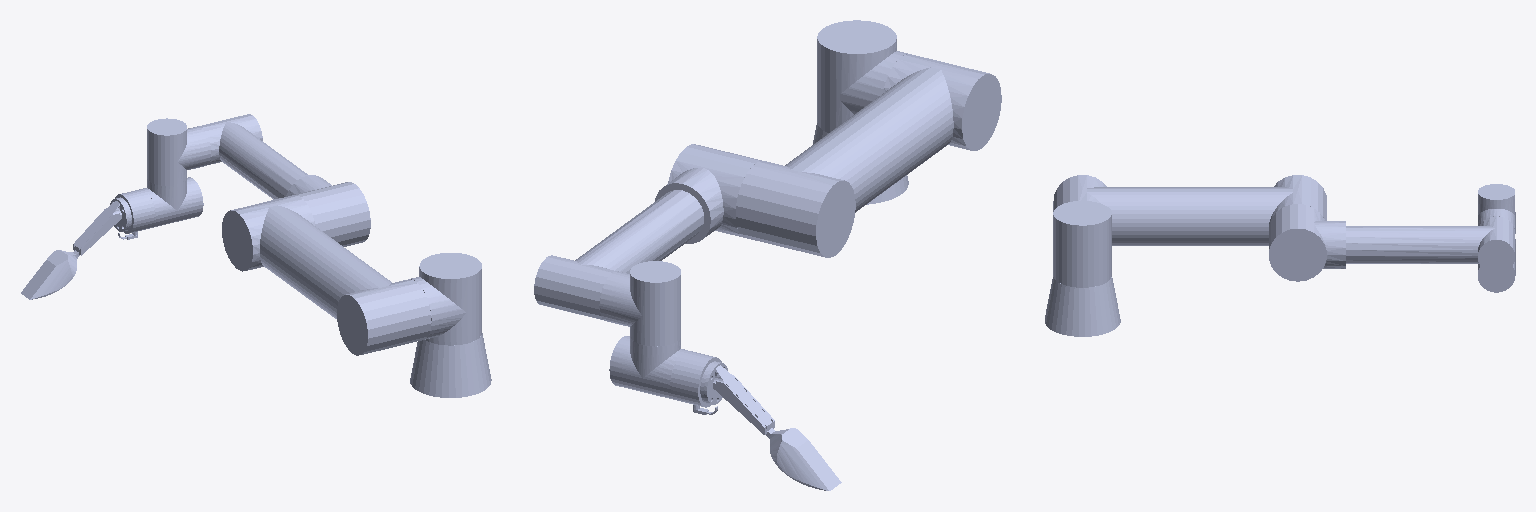
robot.urdf — UR5:
<?xml version="1.0" encoding="utf-8"?>
<robot
  name="UR5">
  <link name="world"/>
  <joint name="fixed" type="fixed">
    <parent link="world"/>
    <child link="base_link"/>
  </joint>
  <link
    name="base_link">
    <inertial>
      <origin
        xyz="0 0 0.0452500167858338"
        rpy="0 0 0" />
      <mass
        value="1.39397162412901" />
      <inertia
        ixx="0.00271550342627118"
        ixy="-1.62630325872826E-19"
        ixz="-4.87890977618477E-19"
        iyy="0.00271550342627118"
        iyz="2.71050543121376E-19"
        izz="0.00319199166031868" />
    </inertial>
    <visual>
      <origin
        xyz="0 0 0"
        rpy="0 0 0" />
      <geometry>
        <mesh
          filename="meshes/base_link.obj" />
      </geometry>
      <material
        name="">
        <color
          rgba="0.792156862745098 0.819607843137255 0.933333333333333 1" />
      </material>
    </visual>
    <collision>
      <origin
        xyz="0 0 0"
        rpy="0 0 0" />
      <geometry>
        <mesh
          filename="meshes/base_link.obj" />
      </geometry>
    </collision>
  </link>
  <link
    name="shoulder_link">
    <inertial>
      <origin
        xyz="1.14297319386836E-07 0.00937261893288466 0.067026772906609"
        rpy="0 0 0" />
      <mass
        value="1.69867696887764" />
      <inertia
        ixx="0.00442864599419339"
        ixy="-4.1010435672395E-09"
        ixz="2.8740170573277E-10"
        iyy="0.00390531713147106"
        iyz="5.6961157001318E-05"
        izz="0.0035600426008386" />
    </inertial>
    <visual>
      <origin
        xyz="0 0 0"
        rpy="0 0 0" />
      <geometry>
        <mesh
          filename="meshes/shoulder_link.obj" />
      </geometry>
      <material
        name="">
        <color
          rgba="0.792156862745098 0.819607843137255 0.933333333333333 1" />
      </material>
    </visual>
    <collision>
      <origin
        xyz="0 0 0"
        rpy="0 0 0" />
      <geometry>
        <mesh
          filename="meshes/shoulder_link.obj" />
      </geometry>
    </collision>
  </link>
  <joint
    name="base_shoulder"
    type="revolute">
    <origin
      xyz="0 0 0.0990600000000002"
      rpy="0 0 1.5707963267949" />
    <parent
      link="base_link" />
    <child
      link="shoulder_link" />
    <axis
      xyz="0 0 1" />
    <limit
      lower="-6.28"
      upper="6.28"
      effort="150"
      velocity="2.0" />
  </joint>
  <link
    name="upperarm_link">
    <inertial>
      <origin
        xyz="1.35809636425677E-07 0.212500030104974 0.0653493983179751"
        rpy="0 0 0" />
      <mass
        value="6.31285273346306" />
      <inertia
        ixx="0.16990036349023"
        ixy="8.61179154376668E-09"
        ixz="3.01509572205039E-07"
        iyy="0.0127291856529223"
        iyz="-4.74484079847695E-10"
        izz="0.168139675767776" />
    </inertial>
    <visual>
      <origin
        xyz="0 0 0"
        rpy="0 0 0" />
      <geometry>
        <mesh
          filename="meshes/upperarm_link.obj" />
      </geometry>
      <material
        name="">
        <color
          rgba="0.792156862745098 0.819607843137255 0.933333333333333 1" />
      </material>
    </visual>
    <collision>
      <origin
        xyz="0 0 0"
        rpy="0 0 0" />
      <geometry>
        <mesh
          filename="meshes/upperarm_link.obj" />
      </geometry>
    </collision>
  </link>
  <joint
    name="shoulder_upperarm"
    type="revolute">
    <origin
      xyz="0 0.0744 0.0634490000000003"
      rpy="-1.5707963267949 -1.5707963267949 0" />
    <parent
      link="shoulder_link" />
    <child
      link="upperarm_link" />
    <axis
      xyz="0 0 1" />
    <limit
      lower="-6.28"
      upper="6.28"
      effort="150"
      velocity="2.0" />
  </joint>
  <link
    name="forearm_link">
    <inertial>
      <origin
        xyz="-7.44991928147698E-08 0.150537145068109 0.0641679811020661"
        rpy="0 0 0" />
      <mass
        value="3.18874318974123" />
      <inertia
        ixx="0.0756021338545846"
        ixy="-1.64883032509507E-08"
        ixz="6.14346224933615E-10"
        iyy="0.00433469541115748"
        iyz="-0.00195295037223336"
        izz="0.0749130409918154" />
    </inertial>
    <visual>
      <origin
        xyz="0 0 0"
        rpy="0 0 0" />
      <geometry>
        <mesh
          filename="meshes/forearm_link.obj" />
      </geometry>
      <material
        name="">
        <color
          rgba="0.792156862745098 0.819607843137255 0.933333333333333 1" />
      </material>
    </visual>
    <collision>
      <origin
        xyz="0 0 0"
        rpy="0 0 0" />
      <geometry>
        <mesh
          filename="meshes/forearm_link.obj" />
      </geometry>
    </collision>
  </link>
  <joint
    name="upperarm_forearm"
    type="revolute">
    <origin
      xyz="0 0.425 0"
      rpy="3.14159265358979 0 3.14159265358979" />
    <parent
      link="upperarm_link" />
    <child
      link="forearm_link" />
    <axis
      xyz="0 0 -1" />
    <limit
      lower="-6.28"
      upper="6.28"
      effort="28"
      velocity="2.0" />
  </joint>
  <link
    name="wrist1_link">
    <inertial>
      <origin
        xyz="-6.79008420600979E-08 -0.00349488600556425 0.0580237753952952"
        rpy="0 0 0" />
      <mass
        value="0.633562099865019" />
      <inertia
        ixx="0.000995073092670701"
        ixy="1.98275427353749E-10"
        ixz="-3.8640843073813E-10"
        iyy="0.000769001925832068"
        iyz="3.2828800546047E-05"
        izz="0.000691326411605403" />
    </inertial>
    <visual>
      <origin
        xyz="0 0 0"
        rpy="0 0 0" />
      <geometry>
        <mesh
          filename="meshes/wrist1_link.obj" />
      </geometry>
      <material
        name="">
        <color
          rgba="0.792156862745098 0.819607843137255 0.933333333333333 1" />
      </material>
    </visual>
    <collision>
      <origin
        xyz="0 0 0"
        rpy="0 0 0" />
      <geometry>
        <mesh
          filename="meshes/wrist1_link.obj" />
      </geometry>
    </collision>
  </link>
  <joint
    name="forearm_wrist1"
    type="revolute">
    <origin
      xyz="0 0.39225 0.0139500000000001"
      rpy="-3.14159265358979 0 1.5707963267949" />
    <parent
      link="forearm_link" />
    <child
      link="wrist1_link" />
    <axis
      xyz="0 0 1" />
    <limit
      lower="-6.28"
      upper="6.28"
      effort="28"
      velocity="2.0" />
  </joint>
  <link
    name="wrist2_link">
    <inertial>
      <origin
        xyz="1.12157481080288E-08 -0.00401808934819226 0.0461487186768794"
        rpy="0 0 0" />
      <mass
        value="0.547369084917851" />
      <inertia
        ixx="0.000728213840607296"
        ixy="-4.19945240216703E-11"
        ixz="8.88611995537034E-11"
        iyy="0.000503983489914328"
        iyz="1.59481903299774E-05"
        izz="0.000628884098642882" />
    </inertial>
    <visual>
      <origin
        xyz="0 0 0"
        rpy="0 0 0" />
      <geometry>
        <mesh
          filename="meshes/wrist2_link.obj" />
      </geometry>
      <material
        name="">
        <color
          rgba="0.792156862745098 0.819607843137255 0.933333333333333 1" />
      </material>
    </visual>
    <collision>
      <origin
        xyz="0 0 0"
        rpy="0 0 0" />
      <geometry>
        <mesh
          filename="meshes/wrist2_link.obj" />
      </geometry>
    </collision>
  </link>
  <joint
    name="wrist1_wrist2"
    type="revolute">
    <origin
      xyz="0 0.0462999999999993 0.0728500000000001"
      rpy="1.5707963267949 0 3.14159265358979" />
    <parent
      link="wrist1_link" />
    <child
      link="wrist2_link" />
    <axis
      xyz="0 0 1" />
    <limit
      lower="-6.28"
      upper="6.28"
      effort="28"
      velocity="2.0" />
  </joint>
  <link
    name="EE_link">
    <inertial>
      <origin
        xyz="-1.51146295479521E-09 0.000469330753138486 0.0254781327288542"
        rpy="0 0 0" />
      <mass
        value="0.226303924785541" />
      <inertia
        ixx="0.00013178028696949"
        ixy="1.01819334484988E-11"
        ixz="-1.15641832115526E-12"
        iyy="0.000126852459091633"
        iyz="-3.72245390676955E-07"
        izz="0.000160104333858935" />
    </inertial>
    <visual>
      <origin
        xyz="0 0 0"
        rpy="0 0 0" />
      <geometry>
        <mesh
          filename="meshes/EE_link.obj" />
      </geometry>
      <material
        name="">
        <color
          rgba="0.792156862745098 0.819607843137255 0.933333333333333 1" />
      </material>
    </visual>
    <collision>
      <origin
        xyz="0 0 0"
        rpy="0 0 0" />
      <geometry>
        <mesh
          filename="meshes/EE_link.obj" />
      </geometry>
    </collision>
  </link>
  <joint
    name="wrist2_EE"
    type="revolute">
    <origin
      xyz="0 0.0463000000000002 0.0534000000000001"
      rpy="1.5707963267949 0 -3.14159265358979" />
    <parent
      link="wrist2_link" />
    <child
      link="EE_link" />
    <axis
      xyz="0 0 1" />
    <limit
      lower="-6.28"
      upper="6.28"
      effort="28"
      velocity="2.0" />
  </joint>
  <link
    name="tool_link">
    <inertial>
      <origin
        xyz="-0.000500000000000167 0 -5.55111512312578E-16"
        rpy="0 0 0" />
      <mass
        value="2.49999999999997E-05" />
      <inertia
        ixx="1.04166666666665E-10"
        ixy="-1.37324906380874E-26"
        ixz="1.17937860774162E-25"
        iyy="5.4166666666664E-11"
        iyz="-8.35258548222491E-25"
        izz="5.41666666666674E-11" />
    </inertial>
  </link>
  <joint
    name="EE_tool"
    type="fixed">
    <origin
      xyz="0 0 0.0533000000000003"
      rpy="1.5707963267949 -1.5707963267949 0" />
    <parent
      link="EE_link" />
    <child
      link="tool_link" />
    <axis
      xyz="0 0 0" />
  </joint>
  <link
    name="scoop_link">
    <inertial>
      <origin
        xyz="0 0 0"
        rpy="0 0 0" />
      <mass
        value="0.2" />
      <inertia
        ixx="0.2"
        ixy="0"
        ixz="0"
        iyy="0.2"
        iyz="0"
        izz="0.2" />
    </inertial>
    <visual>
      <origin
        xyz="0 0 0"
        rpy="0 0 0" />
      <geometry>
        <mesh
          filename="meshes/scoop_no_probe_assem.obj" />
      </geometry>
      <material
        name="">
        <color
          rgba="0.792156862745098 0.819607843137255 0.933333333333333 1" />
      </material>
    </visual>
    <collision>
      <origin
        xyz="0 0 0"
        rpy="0 0 0" />
      <geometry>
        <mesh 
          filename="meshes/scoop_no_probe_assem.obj" />
      </geometry>
    </collision>
  </link>
  <joint
    name="tool_scoop"
    type="fixed">
    <origin
      xyz="0 0 0.0"
      rpy="0 0 0" />
    <parent
      link="tool_link" />
    <child
      link="scoop_link" />
    <axis
      xyz="0 0 0" />
  </joint>
  <link
    name="probe_link">
    <inertial>
      <origin
        xyz="0 0 0"
        rpy="0 0 0" />
      <mass
        value="0" />
      <inertia
        ixx="0"
        ixy="0"
        ixz="0"
        iyy="0"
        iyz="0"
        izz="0" />
    </inertial>
  </link>
  <joint
    name="scoop_probe"
    type="fixed">
    <origin
      xyz="0.028 0.0 0.082"
      rpy="0 0.26179938 0" />
    <parent
      link="scoop_link" />
    <child
      link="probe_link" />
    <axis
      xyz="0 0 0" />
  </joint>
  <link
    name="scoop_handle_link">
    <inertial>
      <origin
        xyz="0 0 0"
        rpy="0 0 0" />
      <mass
        value="0" />
      <inertia
        ixx="0"
        ixy="0"
        ixz="0"
        iyy="0"
        iyz="0"
        izz="0" />
    </inertial>
  </link>
  <joint
    name="scoop_scoop_handle"
    type="fixed">
    <origin
      xyz="0.09424 0. -0.06208"
      rpy="0 0.785398 0" />
    <parent
      link="scoop_link" />
    <child
      link="scoop_handle_link" />
    <axis
      xyz="0 0 0" />
  </joint>
    <link
    name="scoop_tip_link">
    <inertial>
      <origin
        xyz="0 0 0"
        rpy="0 0 0" />
      <mass
        value="0" />
      <inertia
        ixx="0"
        ixy="0"
        ixz="0"
        iyy="0"
        iyz="0"
        izz="0" />
    </inertial>
  </link>
  <joint
    name="scoop_scoop_tip"
    type="fixed">
    <origin
      xyz="0.188 0. -0.114"
      rpy="0 0.785398 0" />
    <parent
      link="scoop_link" />
    <child
      link="scoop_tip_link" />
    <axis
      xyz="0 0 0" />
  </joint>
  <klampt>
    <noselfcollision pairs="base_link shoulder_link"/>
    <noselfcollision pairs="shoulder_link upperarm_link"/>
    <noselfcollision pairs="upperarm_link forearm_link"/>
    <noselfcollision pairs="forearm_link wrist1_link"/>
    <noselfcollision pairs="wrist1_link wrist2_link"/>
    <noselfcollision pairs="wrist2_link EE_link"/>
    <noselfcollision pairs="wrist2_link scoop_link"/>
    <noselfcollision pairs="EE_link scoop_link"/>
    <noselfcollision pairs="probe_link scoop_link"/>
    <noselfcollision group1="EE_link" group2="base_link shoulder_link upperarm_link forearm_link wrist1_link "/>

    <sensors>
      <JointPositionSensor name="pos_sensor"/>
    </sensors>
  </klampt>
</robot>

--- What the picture shows (computed from the rendered views, not written in the file) ---
3 views of the same robot in one strip: view 1: azimuth 30°, elevation 25°; view 2: azimuth 150°, elevation 25°; view 3: azimuth 270°, elevation 25° (orthographic).
Robot: UR5 — 13 links, 12 joints (6 revolute, 6 fixed); root link world; default pose: all joints at 0.
Links seen in each view (by area): view 1: upperarm_link, forearm_link, shoulder_link, base_link, wrist1_link, scoop_link, wrist2_link, EE_link; view 2: upperarm_link, forearm_link, shoulder_link, wrist1_link, scoop_link, wrist2_link, EE_link, base_link; view 3: upperarm_link, forearm_link, shoulder_link, base_link, wrist1_link, wrist2_link.
Boxes of the visible links, x1,y1,x2,y2 form: upperarm_link: (222,195,431,355); forearm_link: (198,114,370,246); shoulder_link: (411,253,481,345); base_link: (410,333,491,397); wrist1_link: (147,118,210,185); scoop_link: (21,198,128,299); wrist2_link: (143,177,203,227); EE_link: (115,189,155,239); upperarm_link: (736,54,1001,257); forearm_link: (534,144,761,319); shoulder_link: (817,20,907,132); wrist1_link: (599,261,680,346); scoop_link: (704,362,841,490); wrist2_link: (609,336,687,399); EE_link: (670,351,721,414); base_link: (813,123,908,204); upperarm_link: (1053,175,1326,245); forearm_link: (1269,204,1514,281); shoulder_link: (1053,201,1111,287); base_link: (1045,277,1120,336); wrist1_link: (1478,184,1515,233); wrist2_link: (1478,239,1515,292).
Size in the robot's own frame: 0.5114 by 0.93 by 0.2909 metres.
Meshes: 8 distinct files referenced, 8 mesh visuals loaded (8 OBJ).